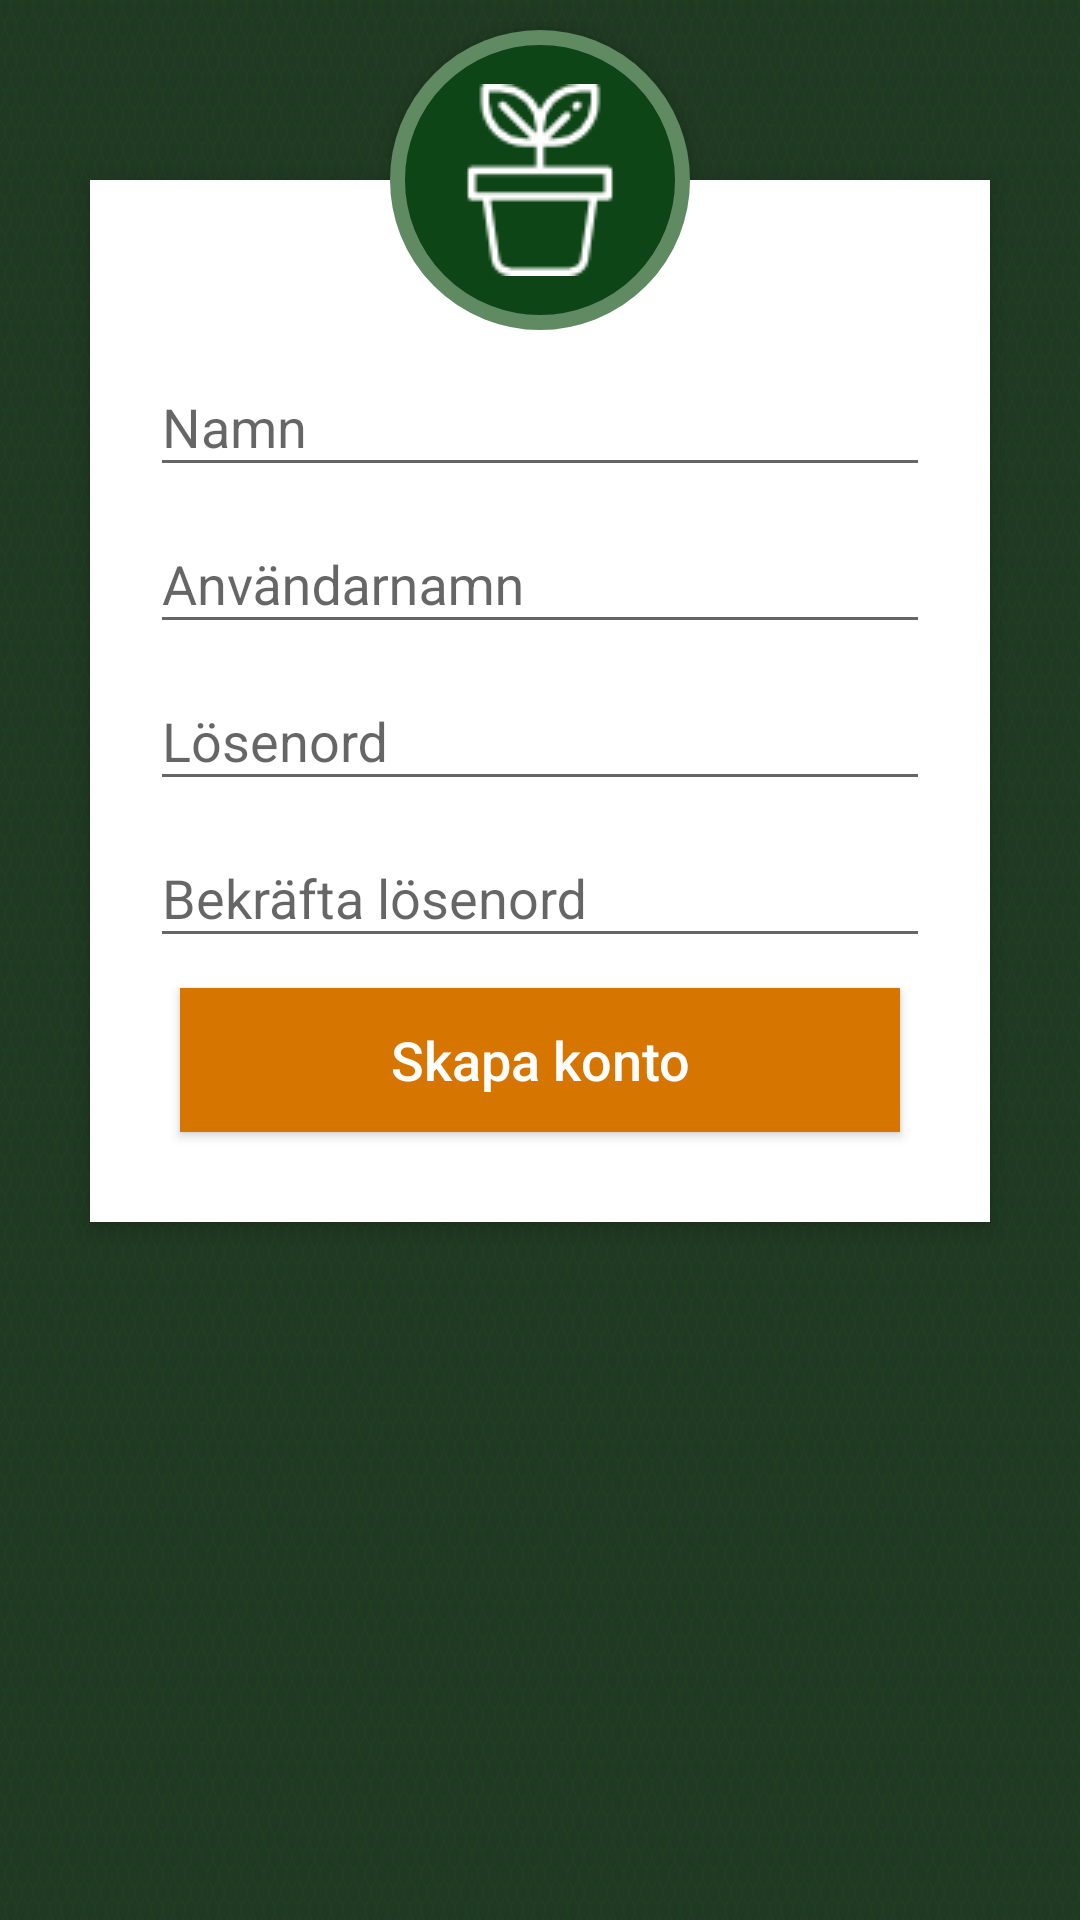

Icon click points for this 1080x1920 phone screenshot, format point (x, y):
plantlogin: point (540, 180)
